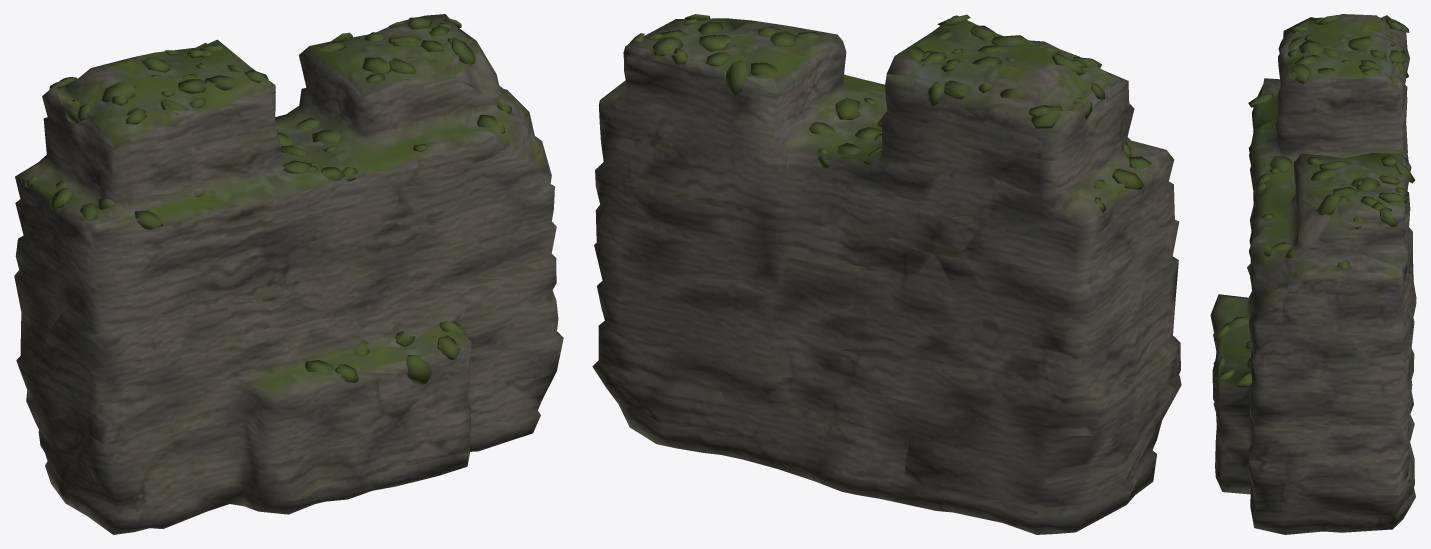
File: cliff_a_lod1.glb
3 views of the same model, side by side, from view 1: azimuth 30°, elevation 25°; view 2: azimuth 150°, elevation 25°; view 3: azimuth 270°, elevation 25° (orthographic). The views are drawn at different scales.
Visible parts, largest first — view 1: cliff_a_lod1; view 2: cliff_a_lod1; view 3: cliff_a_lod1.
Part boxes in pixels (x1,y1,x2,y2): cliff_a_lod1: (14,14,563,534); cliff_a_lod1: (592,14,1181,534); cliff_a_lod1: (1210,14,1416,534).
Bounding box in the file's own units: 10.34 × 8.76 × 4.47.
Materials: 1 (1 with a texture image).
